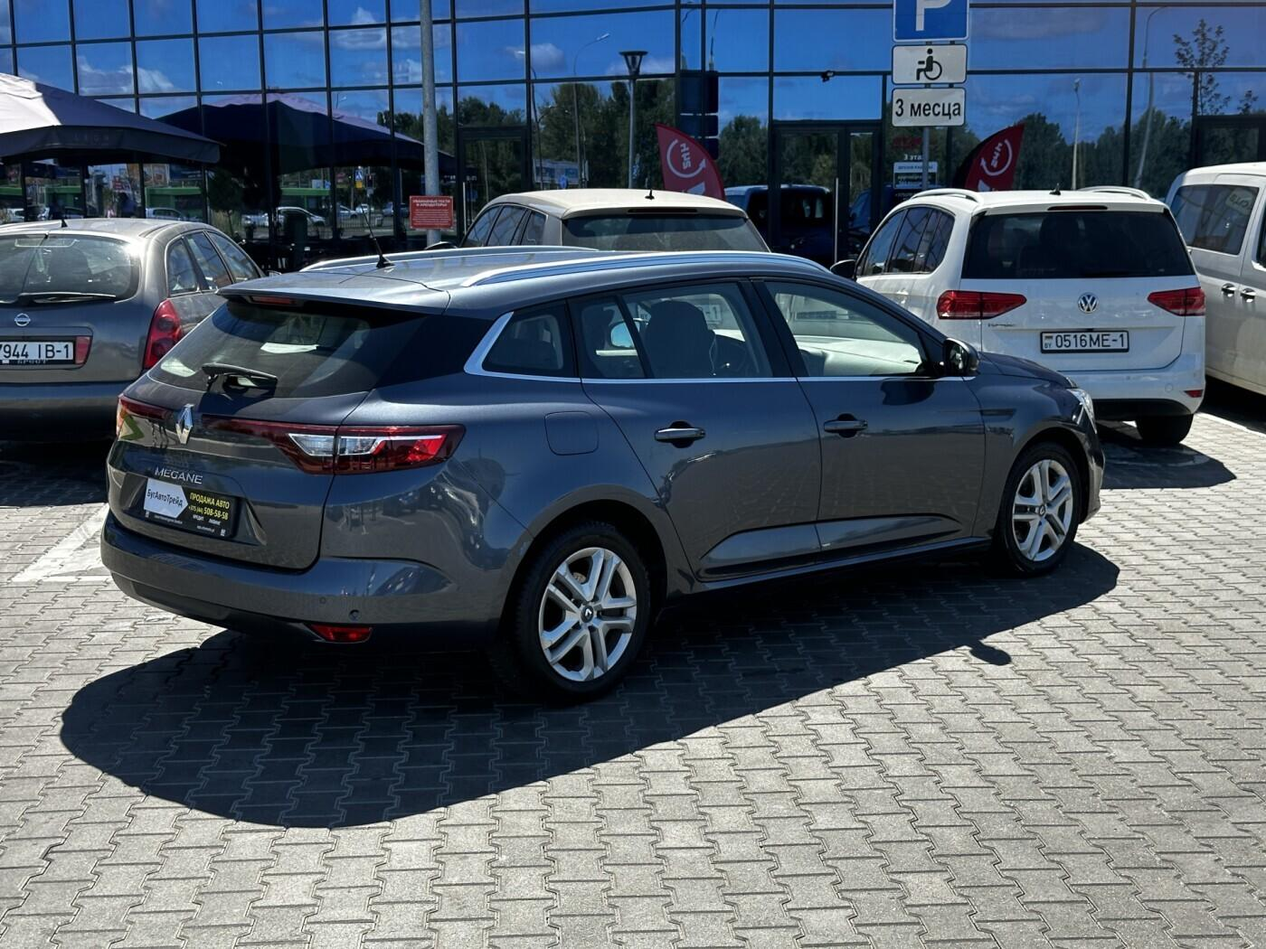Megane_2016-2020: (99, 252, 1110, 677)
